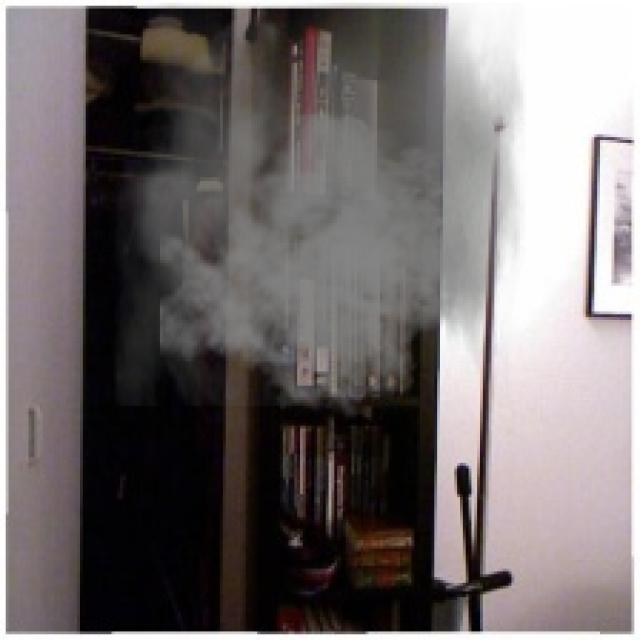smoke: (114, 3, 526, 420)
